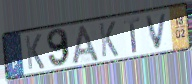9: (46, 27, 72, 70)
A: (71, 24, 101, 66)
K: (24, 33, 46, 72), (98, 20, 120, 59)
T: (123, 15, 142, 54)
V: (144, 11, 169, 51)
